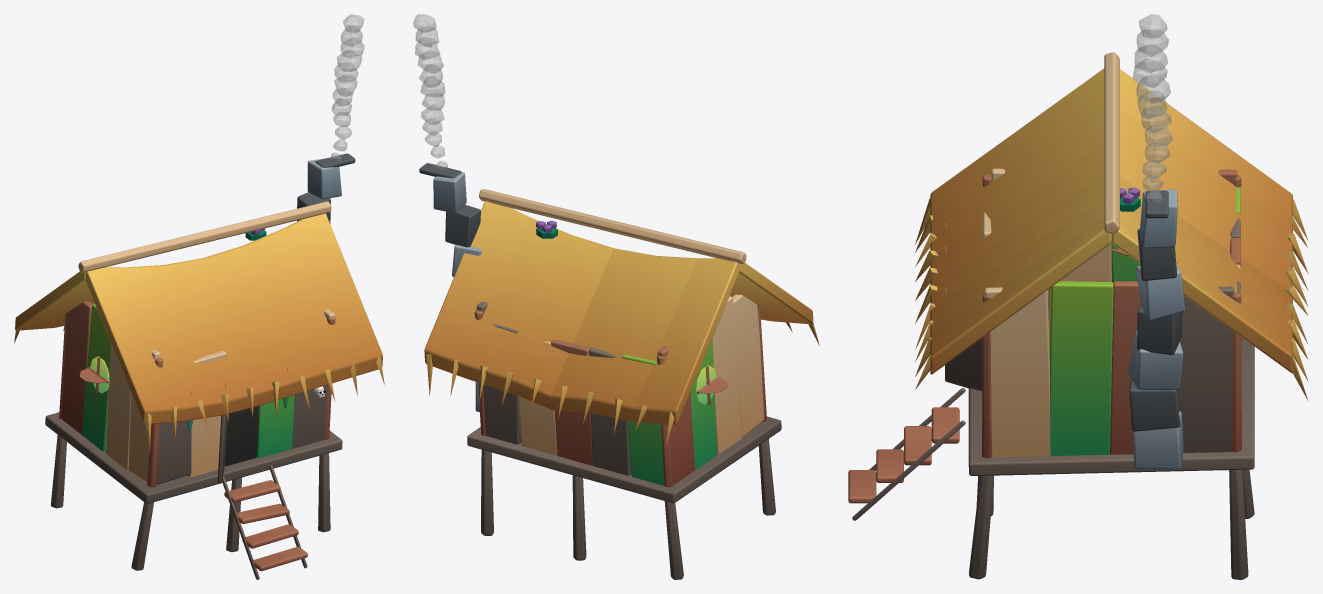
The model's file is hag_hut.glb.
The picture shows the model from 3 angles, left to right: view 1: azimuth 30°, elevation 25°; view 2: azimuth 150°, elevation 25°; view 3: azimuth 270°, elevation 25°; orthographic projection. The views are drawn at different scales.
Parts seen in each view (by area): view 1: hag_hut; view 2: hag_hut; view 3: hag_hut.
Part boxes in pixels (x1,y1,x2,y2): hag_hut: (14, 14, 384, 579); hag_hut: (413, 14, 819, 579); hag_hut: (848, 14, 1308, 579).
Bounding box in the file's own units: 6.25 × 8.91 × 5.96.
3 materials, 3 textured.
